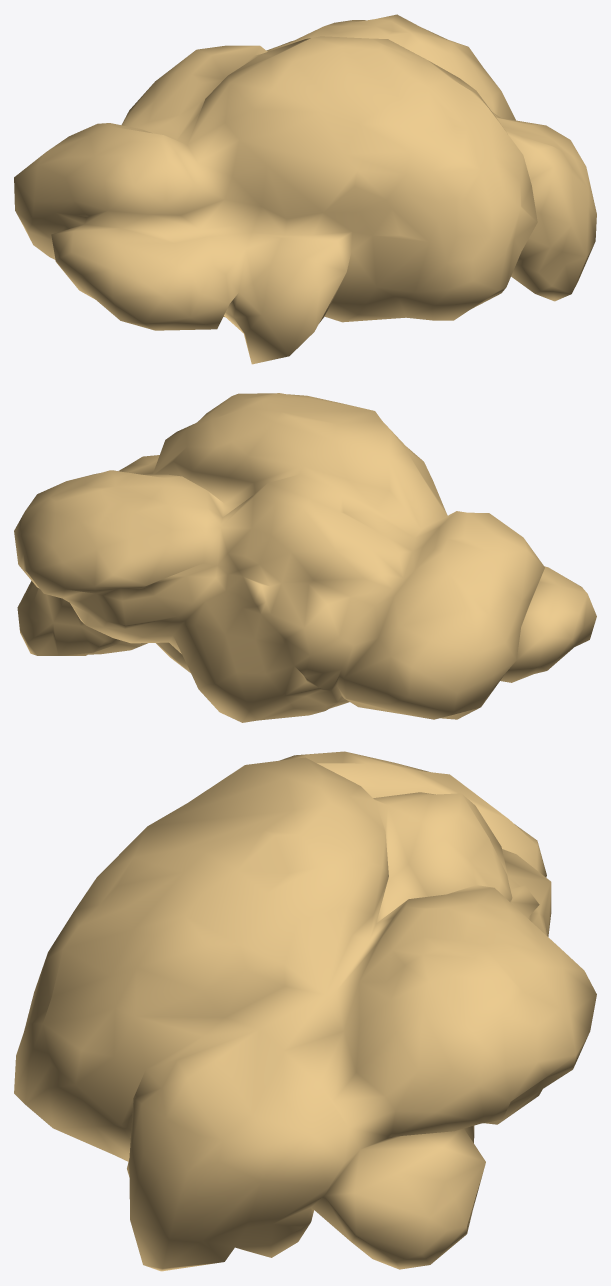
3 views of the same model, one above another, from view 1: azimuth 30°, elevation 25°; view 2: azimuth 150°, elevation 25°; view 3: azimuth 270°, elevation 25° (orthographic). The views are drawn at different scales.
Visible parts, largest first — view 1: rocks_02; view 2: rocks_02; view 3: rocks_02.
Boxes of the visible parts, <box> form: rocks_02: <box>14,14,596,364</box>; rocks_02: <box>14,393,596,722</box>; rocks_02: <box>14,751,596,1271</box>.
Bounding box in the file's own units: 1.36 × 0.6757 × 0.9891.
